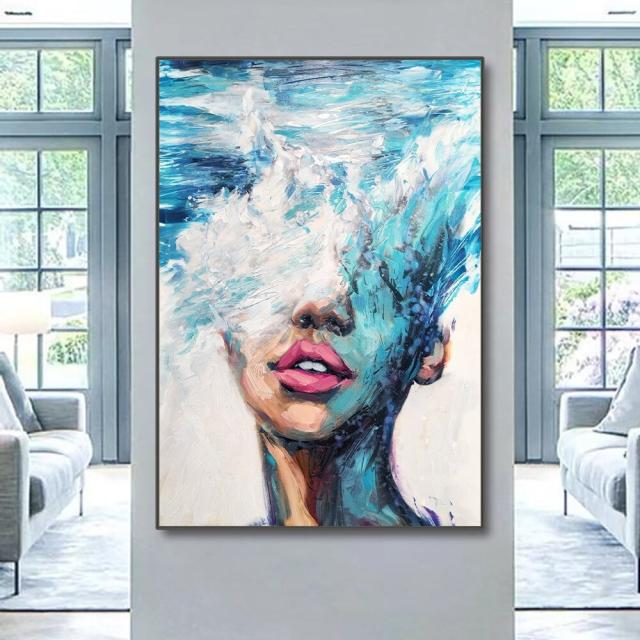painting: (156, 55, 484, 527)
